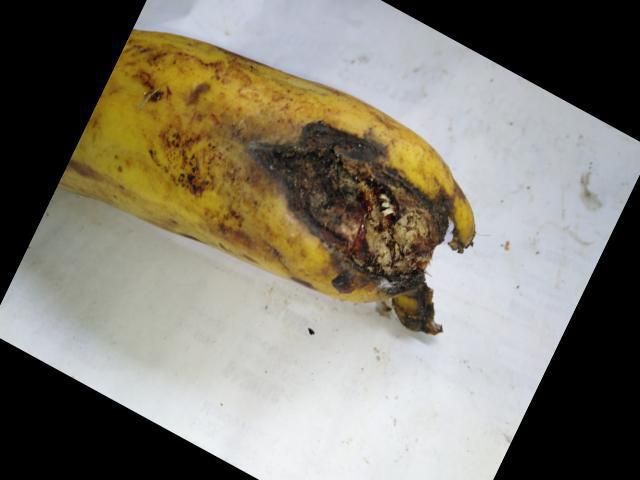ripe: (47, 19, 247, 223)
rotten: (193, 104, 474, 349)
